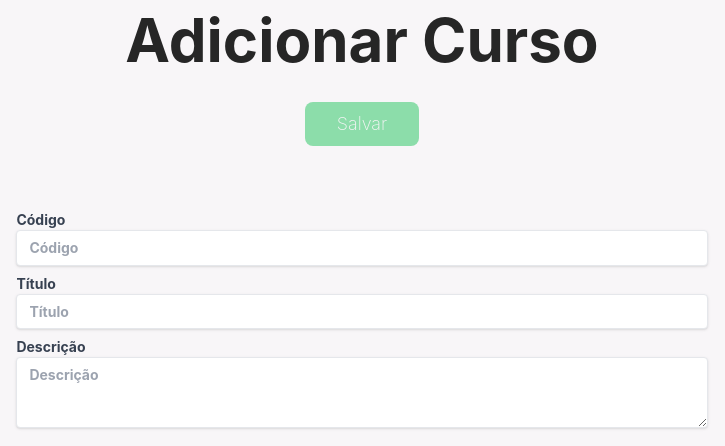
it: <AddCourse /> › ensure AddCourse submit button is enabled only if all form fields are filled
The image size is (725, 446).
Expected: the button "Salvar" is disabled, [305,102,419,146]
Type "123" into the number field with test id "id-input" at [362, 248], box [16,230,708,266]
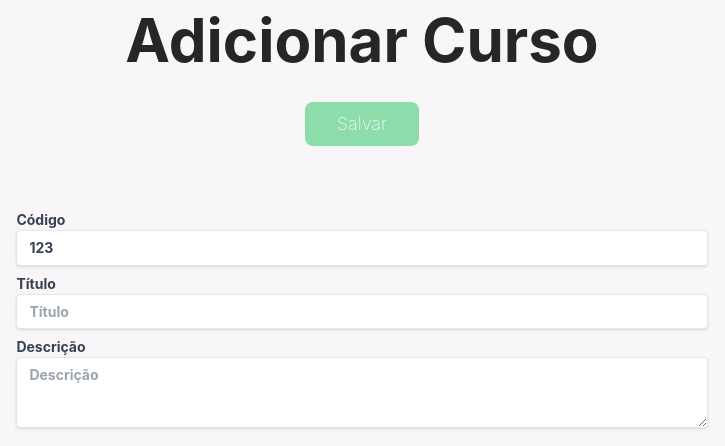
Expected: the button "Salvar" is disabled, [305,102,419,146]
Type "any_title" into the field with test id "title-input" at [362, 311], box [16,294,708,329]
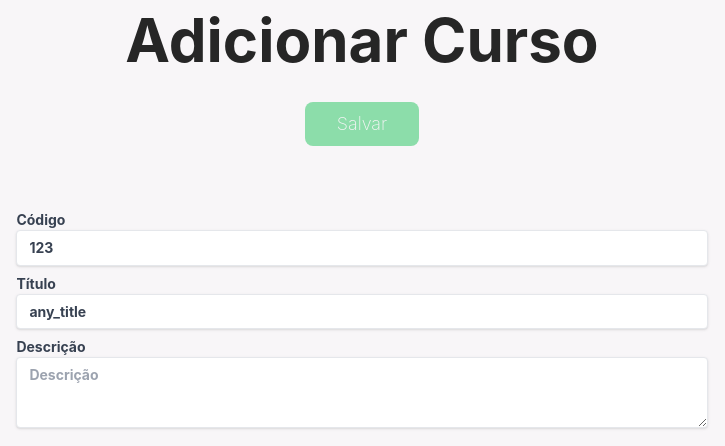
Expected: the button "Salvar" is disabled, [305,102,419,146]
Type "any_description" into the text box with test id "description-input" at [362, 392], box [16,357,708,428]
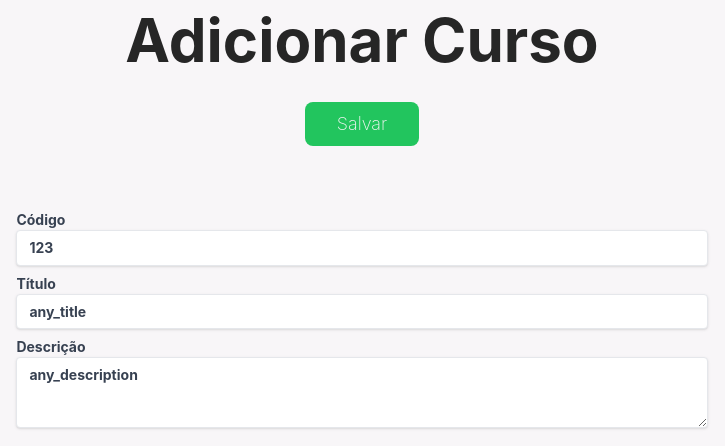
Expected: the button "Salvar" is enabled, [305,102,419,146]
